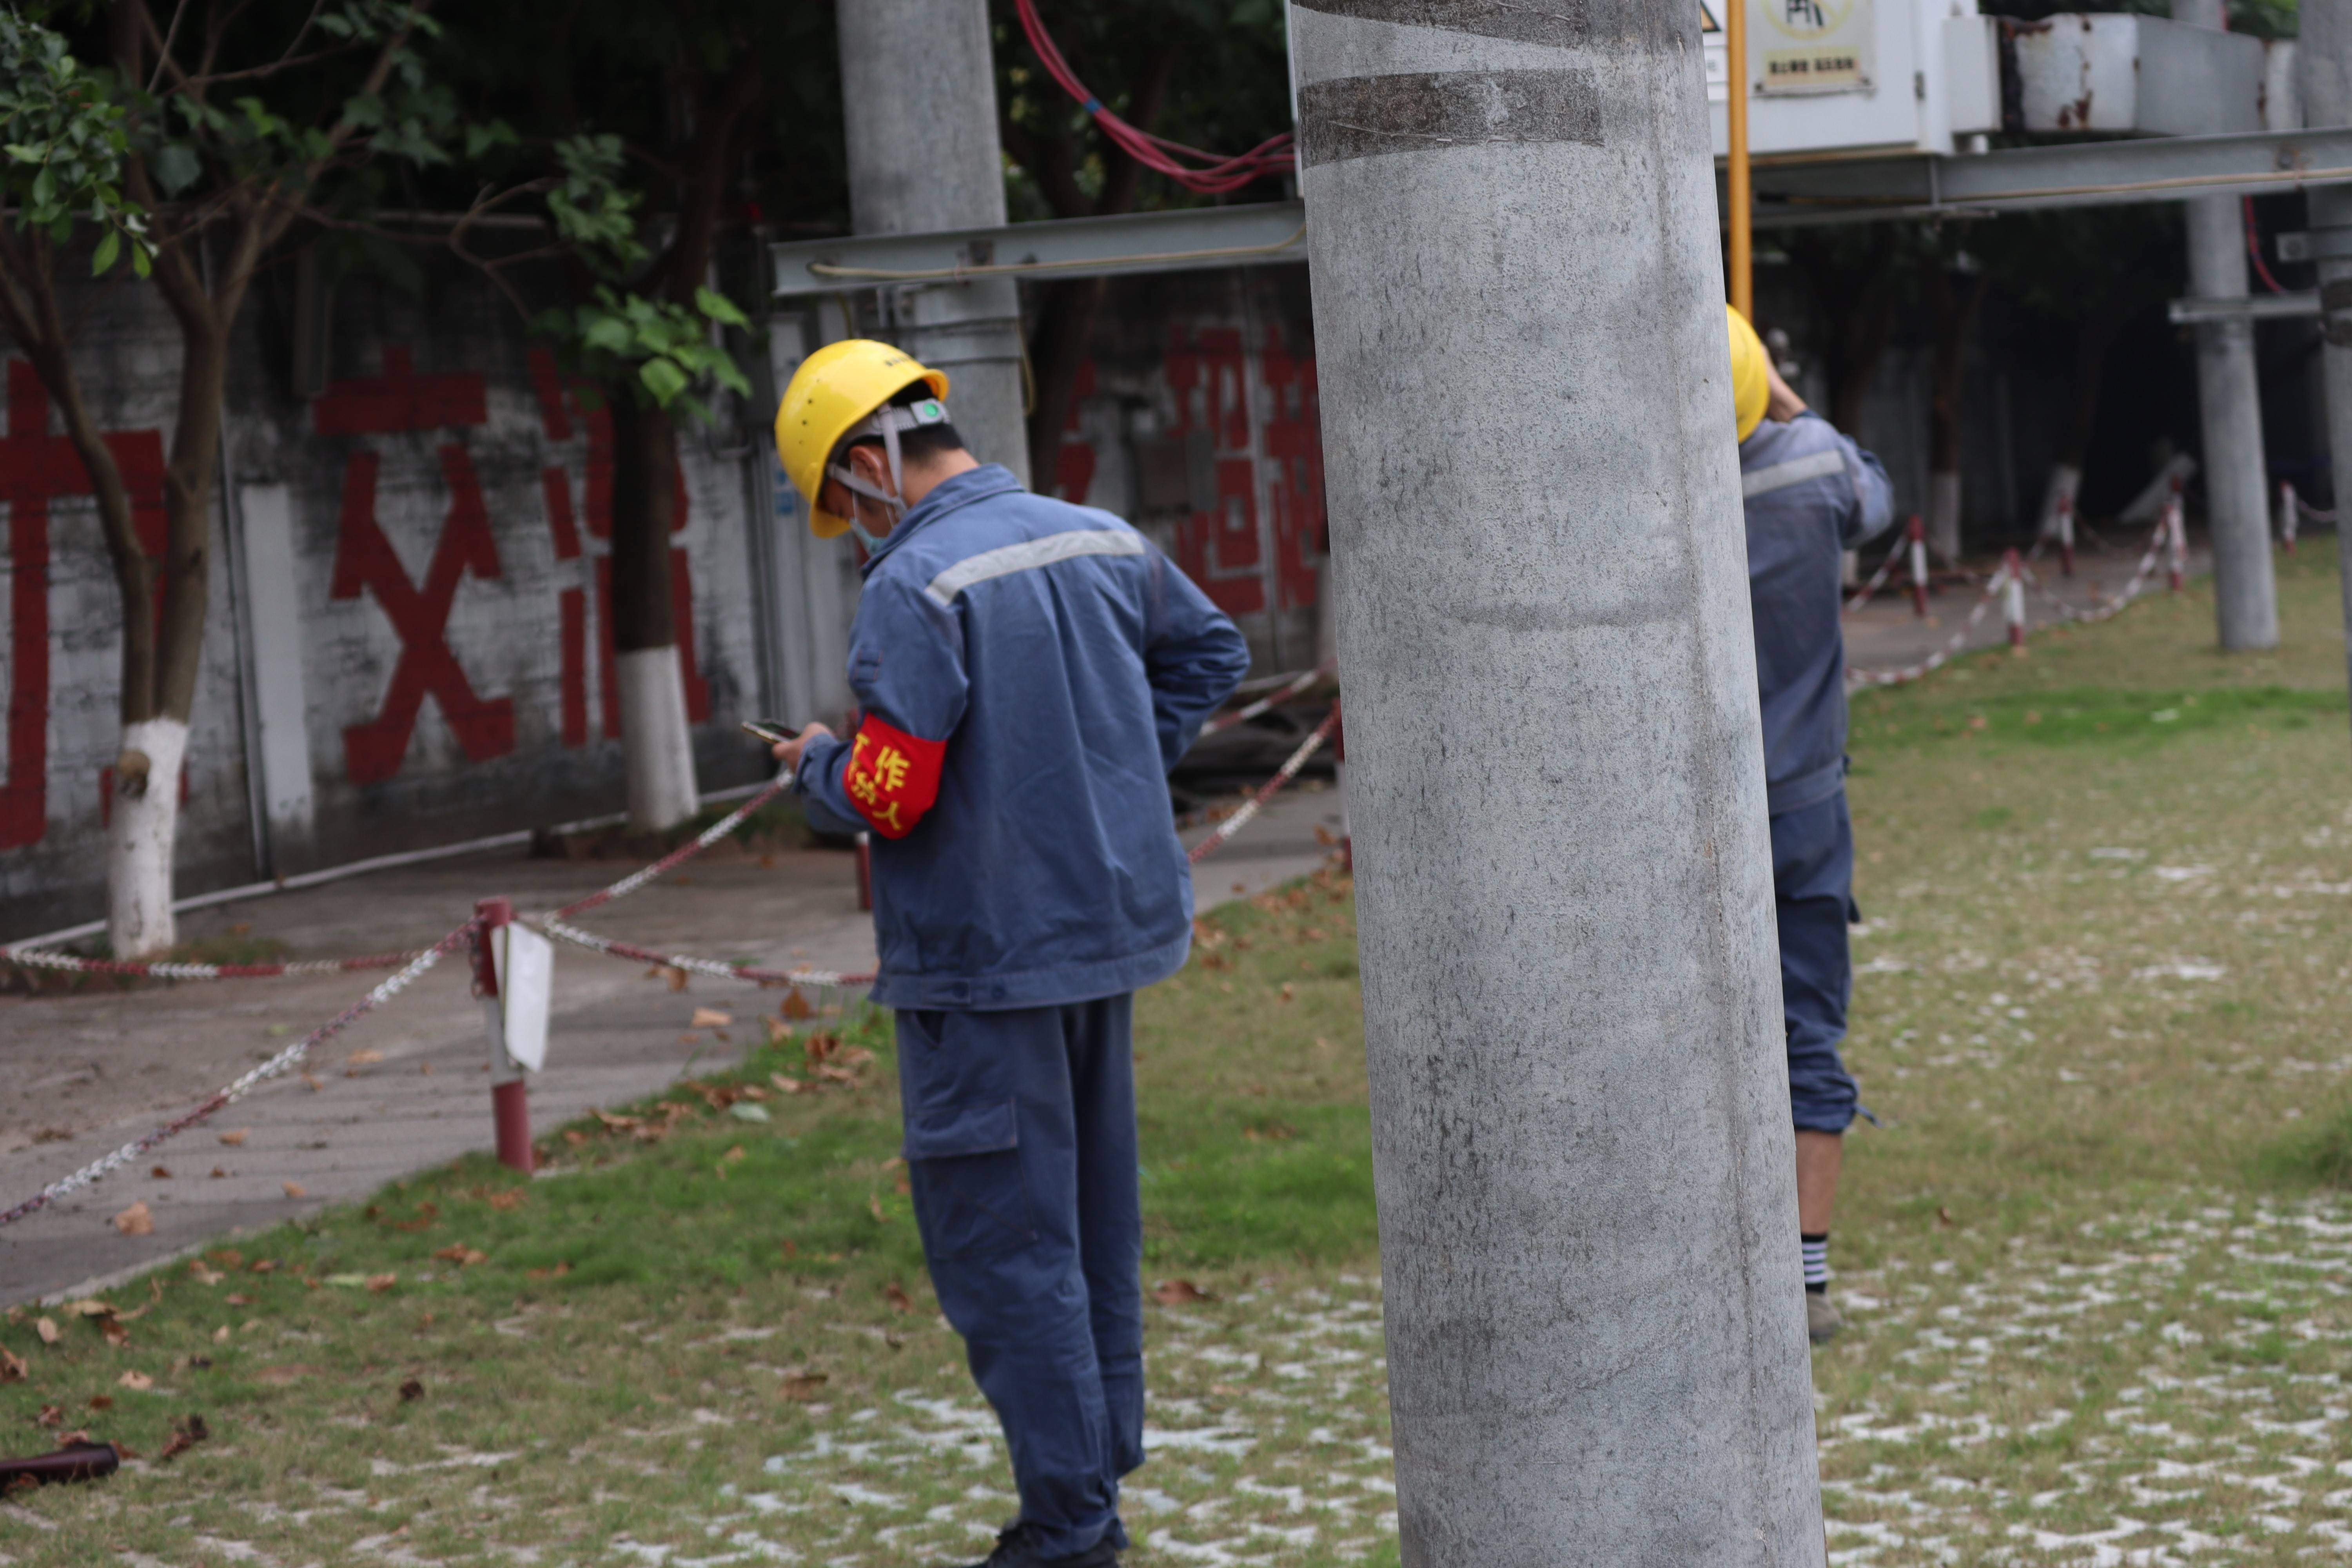downsuit: (887, 1027, 1169, 1545), (1768, 807, 1873, 1123)
upsuit: (782, 455, 1251, 1004), (1750, 431, 1867, 788)
wrongbottom: (1796, 1073, 1853, 1251)
